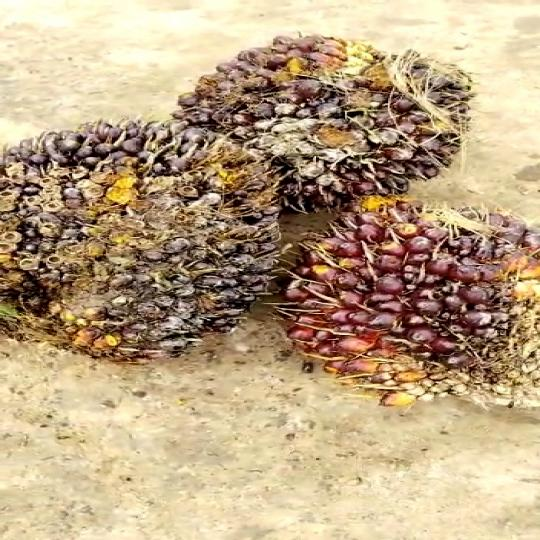kurang masak: (0, 110, 303, 370), (280, 200, 540, 427), (176, 23, 475, 212)
